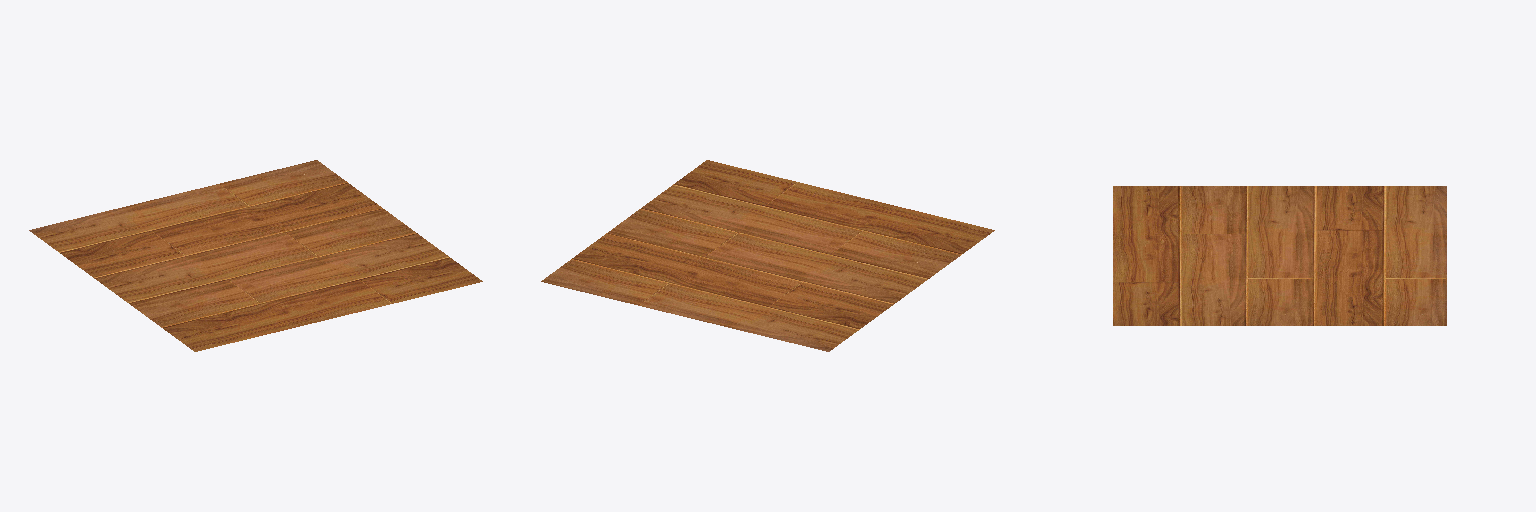
3 views of the same model, side by side, from view 1: azimuth 30°, elevation 25°; view 2: azimuth 150°, elevation 25°; view 3: azimuth 270°, elevation 25° (orthographic).
Parts seen in each view (by area): view 1: floor; view 2: floor; view 3: floor.
Boxes of the visible parts, x1,y1,x2,y2 form: floor: [29, 160, 482, 351]; floor: [541, 160, 994, 351]; floor: [1113, 186, 1446, 325].
Size of the model in its own units: 40 by 0 by 40.
1 materials, 1 textured.